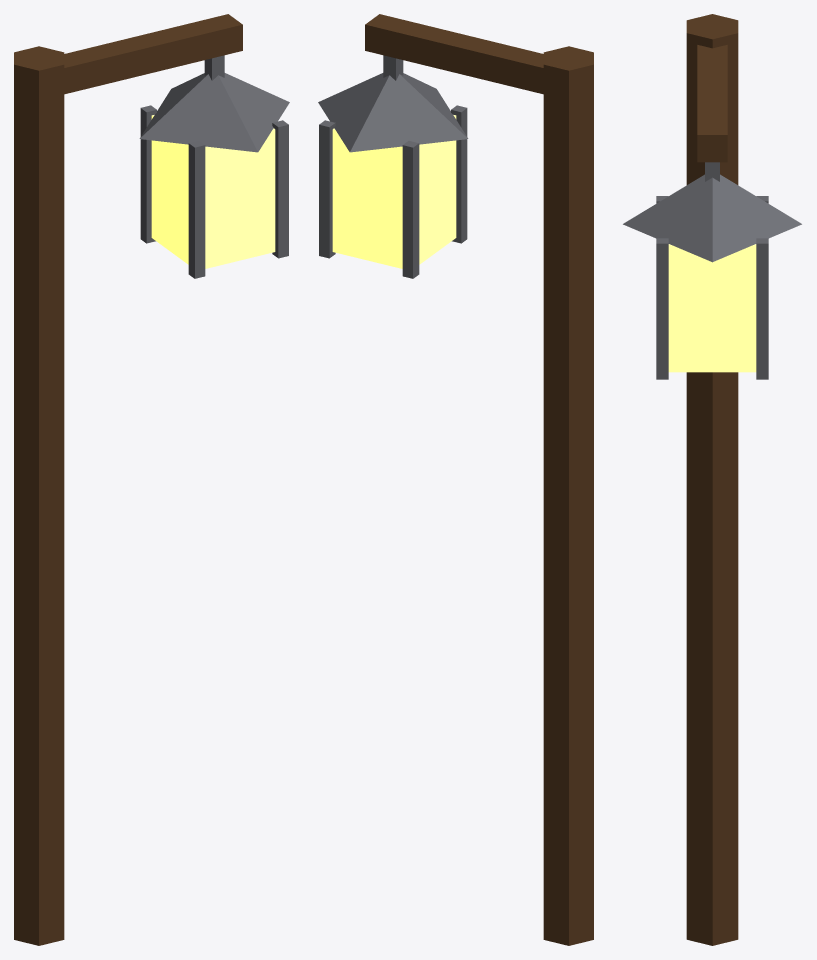
File: lantern.glb
3 renders of one model, left to right at view 1: azimuth 30°, elevation 25°; view 2: azimuth 150°, elevation 25°; view 3: azimuth 270°, elevation 25°, orthographic. The views are drawn at different scales.
Parts seen in each view (by area): view 1: wood_dark-col, metal, glow; view 2: wood_dark-col, metal, glow; view 3: wood_dark-col, metal, glow.
Boxes of the visible parts, box(x1,y1,x2,y2) form: wood_dark-col: box(14, 14, 242, 945); metal: box(139, 55, 289, 278); glow: box(151, 115, 275, 268); wood_dark-col: box(365, 14, 593, 945); metal: box(318, 55, 468, 278); glow: box(332, 115, 456, 268); wood_dark-col: box(686, 14, 738, 945); metal: box(623, 162, 801, 379); glow: box(668, 244, 756, 372).
Bounding box in the file's own units: 0.66 × 2 × 0.36.
